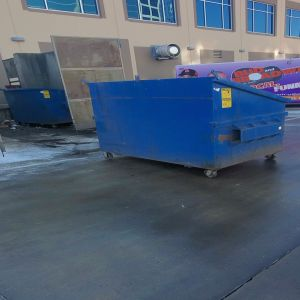Dumpster: (89, 83, 291, 182)
